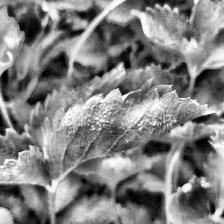Powdery Mildew Leaf: (40, 76, 216, 189), (0, 0, 23, 80)
